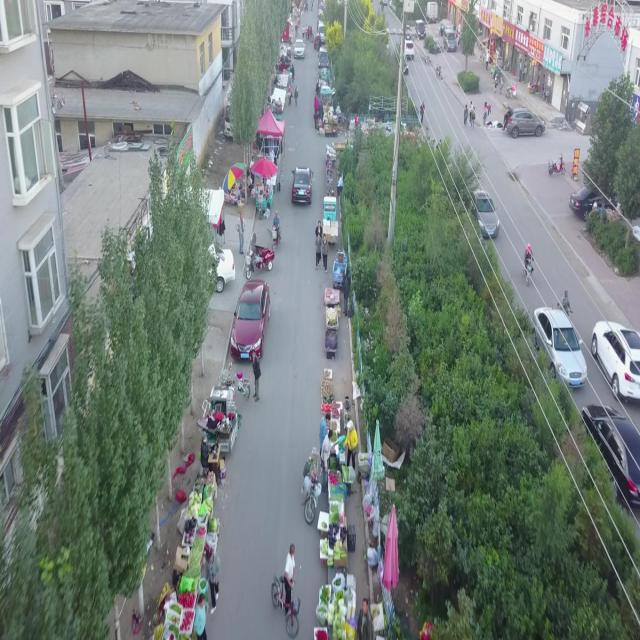bike: (270, 575, 300, 638), (301, 471, 321, 524), (548, 152, 566, 175), (522, 255, 534, 286)
car: (581, 403, 640, 513), (591, 320, 640, 402), (229, 278, 271, 362), (470, 189, 500, 239), (569, 186, 606, 221), (291, 166, 313, 205)
person: (284, 543, 296, 626), (356, 597, 374, 639), (251, 350, 261, 400), (524, 242, 533, 274)
tree: (581, 70, 639, 218), (458, 0, 478, 71)
